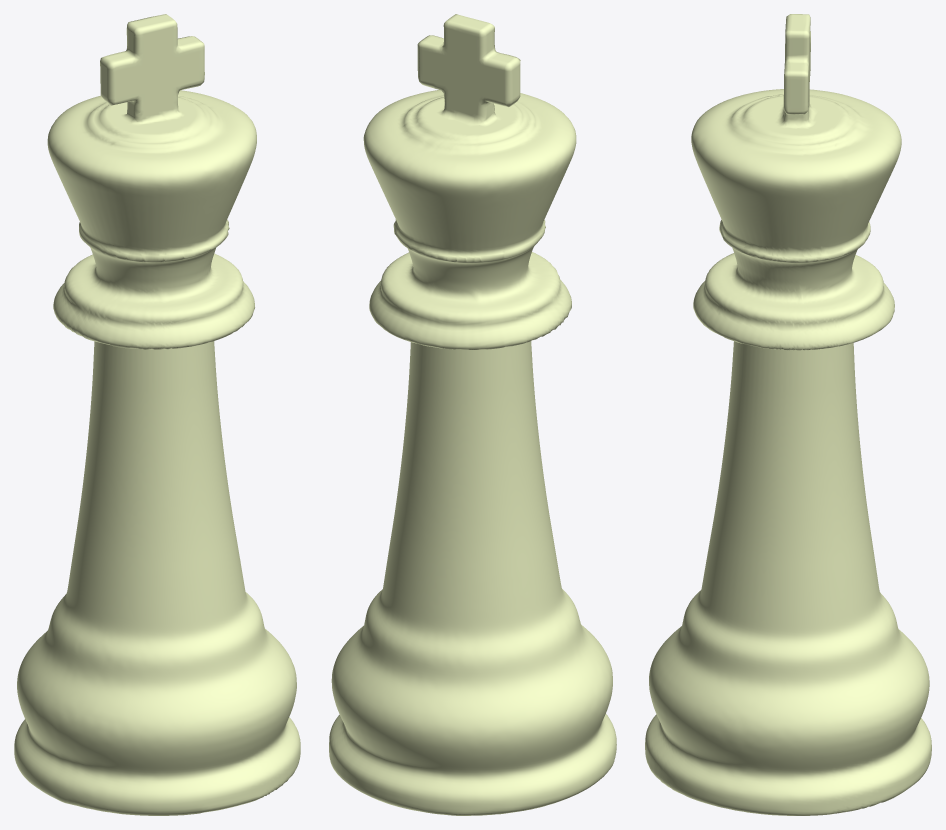
The model's file is King.fbx.
The picture shows the model from 3 angles, left to right: view 1: azimuth 30°, elevation 25°; view 2: azimuth 150°, elevation 25°; view 3: azimuth 270°, elevation 25°; orthographic projection.
Visible parts, largest first — view 1: King; view 2: King; view 3: King.
Part boxes in pixels (box(x1,y1,x2,y2)): King: box(14, 14, 300, 815); King: box(329, 14, 616, 815); King: box(645, 14, 931, 815).
Size of the model in its own units: 3.55 by 10.07 by 3.56.
